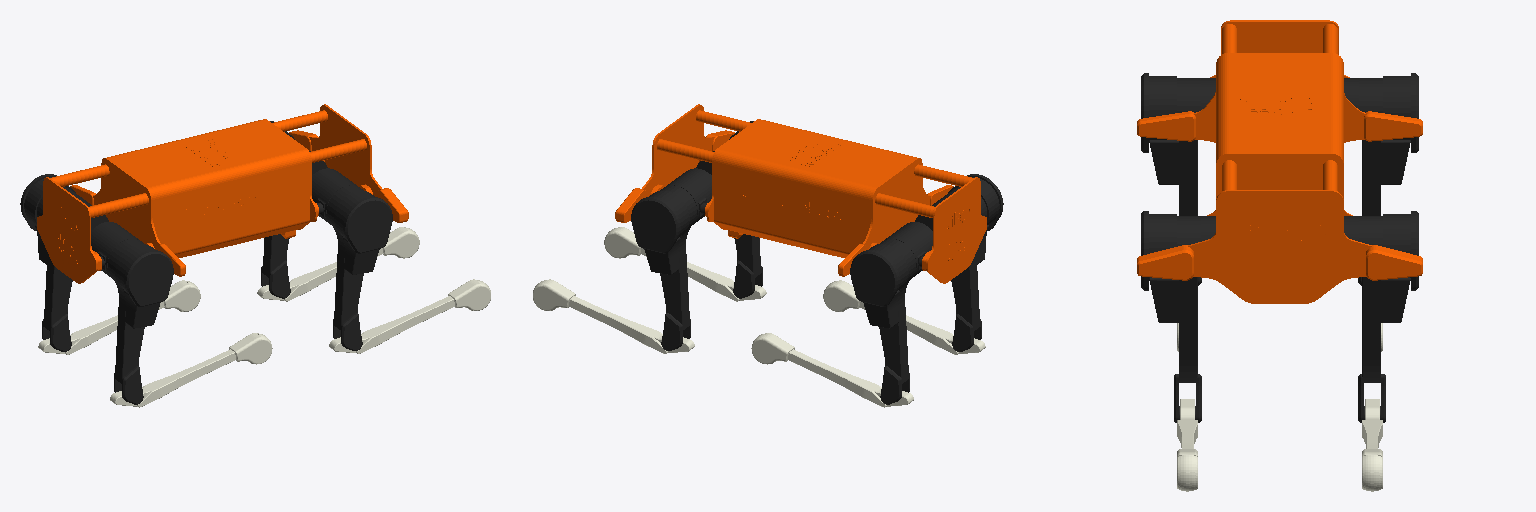
The robot description file, URDF, robot "laikago_description":
<?xml version="1.0" ?>
<!-- =================================================================================== -->
<!-- |    This document was autogenerated by xacro from robot.xacro                    | -->
<!-- |    EDITING THIS FILE BY HAND IS NOT RECOMMENDED                                 | -->
<!-- =================================================================================== -->
<robot name="laikago_description" xmlns:xacro="http://www.ros.org/wiki/xacro">
  <material name="black">
    <color rgba="0.0 0.0 0.0 1.0"/>
  </material>
  <material name="blue">
    <color rgba="0.0 0.0 0.8 1.0"/>
  </material>
  <material name="green">
    <color rgba="0.0 0.8 0.0 1.0"/>
  </material>
  <material name="grey">
    <color rgba="0.2 0.2 0.2 1.0"/>
  </material>
  <material name="silver">
    <color rgba="0.913725490196 0.913725490196 0.847058823529 1.0"/>
  </material>
  <material name="orange">
    <color rgba="1.0 0.423529411765 0.0392156862745 1.0"/>
  </material>
  <material name="brown">
    <color rgba="0.870588235294 0.811764705882 0.764705882353 1.0"/>
  </material>
  <material name="red">
    <color rgba="0.8 0.0 0.0 1.0"/>
  </material>
  <material name="white">
    <color rgba="1.0 1.0 1.0 1.0"/>
  </material>

  <link name="trunk">
    <visual>
      <origin rpy="0 0 0" xyz="0 0 0"/>
      <geometry>
        <mesh filename="../meshes/trunk.stl" scale="1 1 1"/>
      </geometry>
      <material name="orange"/>
    </visual>
    <collision>
      <origin rpy="0 0 0" xyz="0 0 0.01675"/>
      <geometry>
        <box size="0.5616 0.172 0.1875"/>
      </geometry>
    </collision>
    <inertial>
      <origin rpy="0 0 0" xyz="0.002284 -4.1e-05 0.025165"/>
      <mass value="13.733"/>
      <inertia ixx="0.073348887" ixy="0.00030338" ixz="0.001918218" iyy="0.250684593" iyz="-7.5402e-05" izz="0.254469458"/>
    </inertial>
  </link>
  <joint name="FR_hip_joint" type="revolute">
    <origin rpy="0 0 0" xyz="0.21935 -0.0875 0"/>
    <parent link="trunk"/>
    <child link="FR_hip"/>
    <axis xyz="1 0 0"/>
    <dynamics damping="0" friction="0"/>
    <limit effort="20" lower="-1.0471975512" upper="0.872664625997" velocity="52.4"/>
  </joint>
  <link name="FR_hip">
    <visual>
      <origin rpy="3.14159265359 0 0" xyz="0 0 0"/>
      <geometry>
        <mesh filename="../meshes/hip.stl" scale="1 1 1"/>
      </geometry>
      <material name="grey"/>
    </visual>
    <collision>
      <origin rpy="1.57079632679 0 0" xyz="0 0.021 0"/>
      <geometry>
        <cylinder length="0.08" radius="0.041"/>
      </geometry>
    </collision>
    <inertial>
      <origin rpy="0 0 0" xyz="-0.001568 0.008134 0.000864"/>
      <mass value="1.096"/>
      <inertia ixx="0.000822113" ixy="4.982e-06" ixz="-3.672e-05" iyy="0.000983196" iyz="-2.811e-06" izz="0.000864753"/>
    </inertial>
  </link>
  <joint name="FR_thigh_joint" type="revolute">
    <origin rpy="0 0 0" xyz="0 -0.037 0"/>
    <parent link="FR_hip"/>
    <child link="FR_thigh"/>
    <axis xyz="0 1 0"/>
    <dynamics damping="0" friction="0"/>
    <limit effort="55" lower="-0.523598775598" upper="3.92699081699" velocity="28.6"/>
  </joint>
  <link name="FR_thigh">
    <visual>
      <origin rpy="0 0 0" xyz="0 0 0"/>
      <geometry>
        <mesh filename="../meshes/thigh_mirror.stl" scale="1 1 1"/>
      </geometry>
      <material name="grey"/>
    </visual>
    <collision>
      <origin rpy="0 1.57079632679 0" xyz="0 0 -0.125"/>
      <geometry>
        <box size="0.25 0.034 0.043"/>
      </geometry>
    </collision>
    <inertial>
      <origin rpy="0 0 0" xyz="-0.000482 -0.02001 -0.031996"/>
      <mass value="1.528"/>
      <inertia ixx="0.00991611" ixy="-1.0388e-05" ixz="0.000250428" iyy="0.009280083" iyz="8.511e-05" izz="0.00178256"/>
    </inertial>
  </link>
  <joint name="FR_calf_joint" type="revolute">
    <origin rpy="0 0 0" xyz="0 0 -0.25"/>
    <parent link="FR_thigh"/>
    <child link="FR_calf"/>
    <axis xyz="0 1 0"/>
    <dynamics damping="0" friction="0"/>
    <limit effort="55" lower="-2.77507351067" upper="-0.610865238198" velocity="28.6"/>
  </joint>
  <link name="FR_calf">
    <visual>
      <origin rpy="0 0 0" xyz="0 0 0"/>
      <geometry>
        <mesh filename="../meshes/calf.stl" scale="1 1 1"/>
      </geometry>
      <material name="silver"/>
    </visual>
    <collision>
      <origin rpy="0 1.57079632679 0" xyz="0 0 -0.125"/>
      <geometry>
        <box size="0.25 0.016 0.016"/>
      </geometry>
    </collision>
    <inertial>
      <origin rpy="0 0 0" xyz="-0.002196 -0.000381 -0.12338"/>
      <mass value="0.241"/>
      <inertia ixx="0.006181961" ixy="2.37e-07" ixz="-2.985e-06" iyy="0.006196546" iyz="5.138e-06" izz="3.4774e-05"/>
    </inertial>
  </link>
  <joint name="FL_hip_joint" type="revolute">
    <origin rpy="0 0 0" xyz="0.21935 0.0875 0"/>
    <parent link="trunk"/>
    <child link="FL_hip"/>
    <axis xyz="1 0 0"/>
    <dynamics damping="0" friction="0"/>
    <limit effort="20" lower="-0.872664625997" upper="1.0471975512" velocity="52.4"/>
  </joint>
  <link name="FL_hip">
    <visual>
      <origin rpy="0 0 0" xyz="0 0 0"/>
      <geometry>
        <mesh filename="../meshes/hip.stl" scale="1 1 1"/>
      </geometry>
      <material name="grey"/>
    </visual>
    <collision>
      <origin rpy="1.57079632679 0 0" xyz="0 -0.021 0"/>
      <geometry>
        <cylinder length="0.08" radius="0.041"/>
      </geometry>
    </collision>
    <inertial>
      <origin rpy="0 0 0" xyz="-0.001568 -0.008134 0.000864"/>
      <mass value="1.096"/>
      <inertia ixx="0.000822113" ixy="-4.982e-06" ixz="-3.672e-05" iyy="0.000983196" iyz="2.811e-06" izz="0.000864753"/>
    </inertial>
  </link>
  <joint name="FL_thigh_joint" type="revolute">
    <origin rpy="0 0 0" xyz="0 0.037 0"/>
    <parent link="FL_hip"/>
    <child link="FL_thigh"/>
    <axis xyz="0 1 0"/>
    <dynamics damping="0" friction="0"/>
    <limit effort="55" lower="-0.523598775598" upper="3.92699081699" velocity="28.6"/>
  </joint>
  <link name="FL_thigh">
    <visual>
      <origin rpy="0 0 0" xyz="0 0 0"/>
      <geometry>
        <mesh filename="../meshes/thigh.stl" scale="1 1 1"/>
      </geometry>
      <material name="grey"/>
    </visual>
    <collision>
      <origin rpy="0 1.57079632679 0" xyz="0 0 -0.125"/>
      <geometry>
        <box size="0.25 0.034 0.043"/>
      </geometry>
    </collision>
    <inertial>
      <origin rpy="0 0 0" xyz="-0.000482 0.02001 -0.031996"/>
      <mass value="1.528"/>
      <inertia ixx="0.00991611" ixy="1.0388e-05" ixz="0.000250428" iyy="0.009280083" iyz="-8.511e-05" izz="0.00178256"/>
    </inertial>
  </link>
  <joint name="FL_calf_joint" type="revolute">
    <origin rpy="0 0 0" xyz="0 0 -0.25"/>
    <parent link="FL_thigh"/>
    <child link="FL_calf"/>
    <axis xyz="0 1 0"/>
    <dynamics damping="0" friction="0"/>
    <limit effort="55" lower="-2.77507351067" upper="-0.610865238198" velocity="28.6"/>
  </joint>
  <link name="FL_calf">
    <visual>
      <origin rpy="0 0 0" xyz="0 0 0"/>
      <geometry>
        <mesh filename="../meshes/calf.stl" scale="1 1 1"/>
      </geometry>
      <material name="silver"/>
    </visual>
    <collision>
      <origin rpy="0 1.57079632679 0" xyz="0 0 -0.125"/>
      <geometry>
        <box size="0.25 0.016 0.016"/>
      </geometry>
    </collision>
    <inertial>
      <origin rpy="0 0 0" xyz="-0.002196 -0.000381 -0.12338"/>
      <mass value="0.241"/>
      <inertia ixx="0.006181961" ixy="2.37e-07" ixz="-2.985e-06" iyy="0.006196546" iyz="5.138e-06" izz="3.4774e-05"/>
    </inertial>
  </link>
  <joint name="RR_hip_joint" type="revolute">
    <origin rpy="0 0 0" xyz="-0.21935 -0.0875 0"/>
    <parent link="trunk"/>
    <child link="RR_hip"/>
    <axis xyz="1 0 0"/>
    <dynamics damping="0" friction="0"/>
    <limit effort="20" lower="-1.0471975512" upper="0.872664625997" velocity="52.4"/>
  </joint>
  <link name="RR_hip">
    <visual>
      <origin rpy="3.14159265359 3.14159265359 0" xyz="0 0 0"/>
      <geometry>
        <mesh filename="../meshes/hip.stl" scale="1 1 1"/>
      </geometry>
      <material name="grey"/>
    </visual>
    <collision>
      <origin rpy="1.57079632679 0 0" xyz="0 0.021 0"/>
      <geometry>
        <cylinder length="0.08" radius="0.041"/>
      </geometry>
    </collision>
    <inertial>
      <origin rpy="0 0 0" xyz="0.001568 0.008134 0.000864"/>
      <mass value="1.096"/>
      <inertia ixx="0.000822113" ixy="-4.982e-06" ixz="3.672e-05" iyy="0.000983196" iyz="-2.811e-06" izz="0.000864753"/>
    </inertial>
  </link>
  <joint name="RR_thigh_joint" type="revolute">
    <origin rpy="0 0 0" xyz="0 -0.037 0"/>
    <parent link="RR_hip"/>
    <child link="RR_thigh"/>
    <axis xyz="0 1 0"/>
    <dynamics damping="0" friction="0"/>
    <limit effort="55" lower="-0.523598775598" upper="3.92699081699" velocity="28.6"/>
  </joint>
  <link name="RR_thigh">
    <visual>
      <origin rpy="0 0 0" xyz="0 0 0"/>
      <geometry>
        <mesh filename="../meshes/thigh_mirror.stl" scale="1 1 1"/>
      </geometry>
      <material name="grey"/>
    </visual>
    <collision>
      <origin rpy="0 1.57079632679 0" xyz="0 0 -0.125"/>
      <geometry>
        <box size="0.25 0.034 0.043"/>
      </geometry>
    </collision>
    <inertial>
      <origin rpy="0 0 0" xyz="-0.000482 -0.02001 -0.031996"/>
      <mass value="1.528"/>
      <inertia ixx="0.00991611" ixy="-1.0388e-05" ixz="0.000250428" iyy="0.009280083" iyz="8.511e-05" izz="0.00178256"/>
    </inertial>
  </link>
  <joint name="RR_calf_joint" type="revolute">
    <origin rpy="0 0 0" xyz="0 0 -0.25"/>
    <parent link="RR_thigh"/>
    <child link="RR_calf"/>
    <axis xyz="0 1 0"/>
    <dynamics damping="0" friction="0"/>
    <limit effort="55" lower="-2.77507351067" upper="-0.610865238198" velocity="28.6"/>
  </joint>
  <link name="RR_calf">
    <visual>
      <origin rpy="0 0 0" xyz="0 0 0"/>
      <geometry>
        <mesh filename="../meshes/calf.stl" scale="1 1 1"/>
      </geometry>
      <material name="silver"/>
    </visual>
    <collision>
      <origin rpy="0 1.57079632679 0" xyz="0 0 -0.125"/>
      <geometry>
        <box size="0.25 0.016 0.016"/>
      </geometry>
    </collision>
    <inertial>
      <origin rpy="0 0 0" xyz="-0.002196 -0.000381 -0.12338"/>
      <mass value="0.241"/>
      <inertia ixx="0.006181961" ixy="2.37e-07" ixz="-2.985e-06" iyy="0.006196546" iyz="5.138e-06" izz="3.4774e-05"/>
    </inertial>
  </link>
  <joint name="RL_hip_joint" type="revolute">
    <origin rpy="0 0 0" xyz="-0.21935 0.0875 0"/>
    <parent link="trunk"/>
    <child link="RL_hip"/>
    <axis xyz="1 0 0"/>
    <dynamics damping="0" friction="0"/>
    <limit effort="20" lower="-0.872664625997" upper="1.0471975512" velocity="52.4"/>
  </joint>
  <link name="RL_hip">
    <visual>
      <origin rpy="0 3.14159265359 0" xyz="0 0 0"/>
      <geometry>
        <mesh filename="../meshes/hip.stl" scale="1 1 1"/>
      </geometry>
      <material name="grey"/>
    </visual>
    <collision>
      <origin rpy="1.57079632679 0 0" xyz="0 -0.021 0"/>
      <geometry>
        <cylinder length="0.08" radius="0.041"/>
      </geometry>
    </collision>
    <inertial>
      <origin rpy="0 0 0" xyz="0.001568 -0.008134 0.000864"/>
      <mass value="1.096"/>
      <inertia ixx="0.000822113" ixy="4.982e-06" ixz="3.672e-05" iyy="0.000983196" iyz="2.811e-06" izz="0.000864753"/>
    </inertial>
  </link>
  <joint name="RL_thigh_joint" type="revolute">
    <origin rpy="0 0 0" xyz="0 0.037 0"/>
    <parent link="RL_hip"/>
    <child link="RL_thigh"/>
    <axis xyz="0 1 0"/>
    <dynamics damping="0" friction="0"/>
    <limit effort="55" lower="-0.523598775598" upper="3.92699081699" velocity="28.6"/>
  </joint>
  <link name="RL_thigh">
    <visual>
      <origin rpy="0 0 0" xyz="0 0 0"/>
      <geometry>
        <mesh filename="../meshes/thigh.stl" scale="1 1 1"/>
      </geometry>
      <material name="grey"/>
    </visual>
    <collision>
      <origin rpy="0 1.57079632679 0" xyz="0 0 -0.125"/>
      <geometry>
        <box size="0.25 0.034 0.043"/>
      </geometry>
    </collision>
    <inertial>
      <origin rpy="0 0 0" xyz="-0.000482 0.02001 -0.031996"/>
      <mass value="1.528"/>
      <inertia ixx="0.00991611" ixy="1.0388e-05" ixz="0.000250428" iyy="0.009280083" iyz="-8.511e-05" izz="0.00178256"/>
    </inertial>
  </link>
  <joint name="RL_calf_joint" type="revolute">
    <origin rpy="0 0 0" xyz="0 0 -0.25"/>
    <parent link="RL_thigh"/>
    <child link="RL_calf"/>
    <axis xyz="0 1 0"/>
    <dynamics damping="0" friction="0"/>
    <limit effort="55" lower="-2.77507351067" upper="-0.610865238198" velocity="28.6"/>
  </joint>
  <link name="RL_calf">
    <visual>
      <origin rpy="0 0 0" xyz="0 0 0"/>
      <geometry>
        <mesh filename="../meshes/calf.stl" scale="1 1 1"/>
      </geometry>
      <material name="silver"/>
    </visual>
    <collision>
      <origin rpy="0 1.57079632679 0" xyz="0 0 -0.125"/>
      <geometry>
        <box size="0.25 0.016 0.016"/>
      </geometry>
    </collision>
    <inertial>
      <origin rpy="0 0 0" xyz="-0.002196 -0.000381 -0.12338"/>
      <mass value="0.241"/>
      <inertia ixx="0.006181961" ixy="2.37e-07" ixz="-2.985e-06" iyy="0.006196546" iyz="5.138e-06" izz="3.4774e-05"/>
    </inertial>
  </link>

</robot>

--- Facts derived from the render (not from the file) ---
Views: 3 orthographic renders of the robot side by side, from view 1: azimuth 30°, elevation 25°; view 2: azimuth 150°, elevation 25°; view 3: azimuth 270°, elevation 25°.
Robot: laikago_description — 13 links, 12 joints (12 revolute); root link trunk; default pose: all joints at 0 but 4 set to mid-range because 0 is outside their limits (FR_calf_joint = -1.69, FL_calf_joint = -1.69, RR_calf_joint = -1.69, RL_calf_joint = -1.69).
Visible links, largest first — view 1: trunk, FR_thigh, RR_thigh, RL_thigh, FR_calf, RR_calf, RL_calf, FL_calf, FL_thigh, FR_hip, RR_hip; view 2: trunk, FL_thigh, RL_thigh, RR_thigh, FL_calf, RL_calf, RR_calf, FR_calf, FR_thigh, FL_hip, RL_hip; view 3: trunk, FR_thigh, FL_thigh, RR_thigh, RL_thigh, FR_calf, FL_calf.
Boxes of the visible links, left/top/right/bottom form: trunk: left=37, top=104, right=408, bottom=283; FR_thigh: left=327, top=185, right=392, bottom=350; RR_thigh: left=108, top=239, right=173, bottom=404; RL_thigh: left=20, top=174, right=78, bottom=351; FR_calf: left=329, top=279, right=490, bottom=353; RR_calf: left=110, top=333, right=272, bottom=407; RL_calf: left=38, top=280, right=200, bottom=354; FL_calf: left=257, top=227, right=419, bottom=301; FL_thigh: left=261, top=121, right=294, bottom=298; FR_hip: left=312, top=168, right=356, bottom=224; RR_hip: left=91, top=222, right=138, bottom=277; trunk: left=615, top=104, right=986, bottom=283; FL_thigh: left=631, top=185, right=696, bottom=350; RL_thigh: left=850, top=239, right=915, bottom=404; RR_thigh: left=945, top=174, right=1003, bottom=351; FL_calf: left=533, top=279, right=694, bottom=353; RL_calf: left=751, top=333, right=913, bottom=407; RR_calf: left=823, top=280, right=985, bottom=354; FR_calf: left=604, top=227, right=766, bottom=301; FR_thigh: left=729, top=121, right=762, bottom=298; FL_hip: left=667, top=168, right=711, bottom=224; RL_hip: left=885, top=222, right=932, bottom=277; trunk: left=1137, top=20, right=1422, bottom=303; FR_thigh: left=1141, top=211, right=1201, bottom=422; FL_thigh: left=1358, top=211, right=1418, bottom=422; RR_thigh: left=1141, top=73, right=1201, bottom=285; RL_thigh: left=1358, top=73, right=1418, bottom=285; FR_calf: left=1177, top=399, right=1197, bottom=491; FL_calf: left=1362, top=399, right=1382, bottom=491.
Size in the robot's own frame: 0.7755 by 0.386 by 0.3808 metres.
13 mesh visuals loaded from 5 distinct referenced files (5 binary STL).